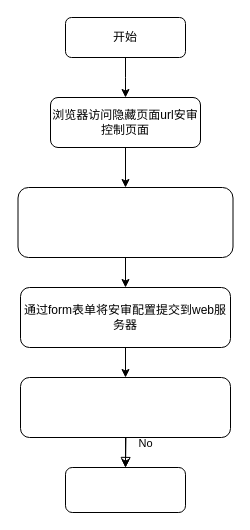
Some shapes in this 250 by 530 pixel diagram are drawn without their labels. Here are the shapes that lost their labels. From the top down, the centre of each, then its label:
At point 125,222: "页面按钮启动、关闭以及切换不用安审".
At point 125,489: "Repair Lamp".
